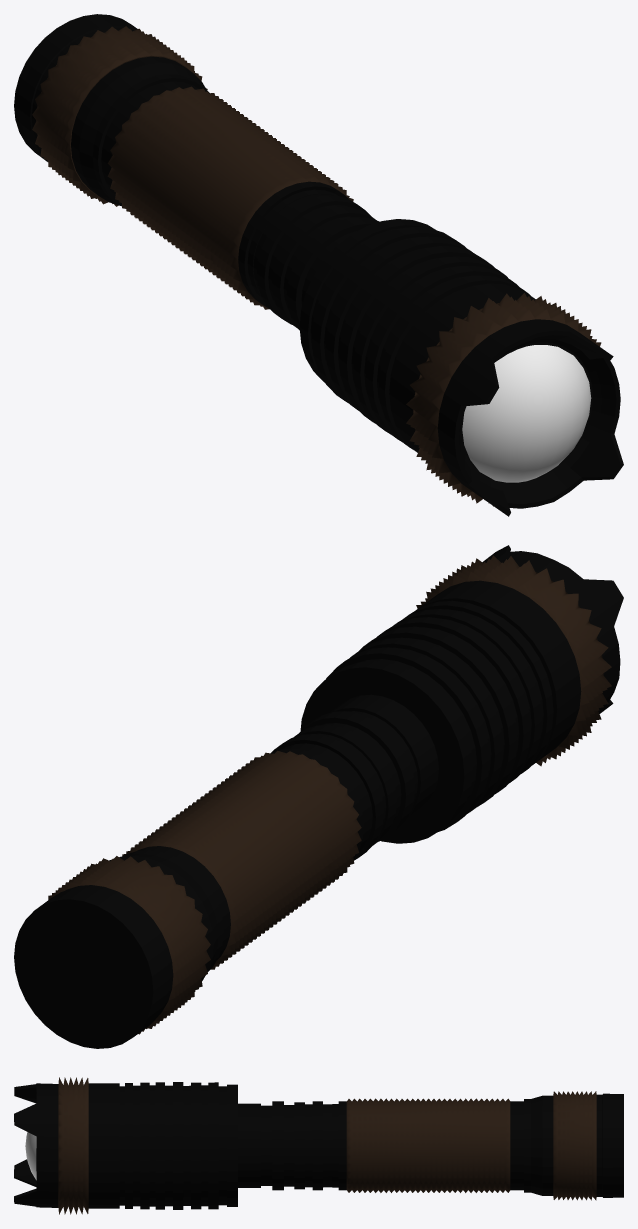
Rendered from Flas.glb.
The picture shows the model from 3 angles, top to bottom: view 1: azimuth 30°, elevation 25°; view 2: azimuth 150°, elevation 25°; view 3: azimuth 270°, elevation 25°; orthographic projection. The views are drawn at different scales.
Parts seen in each view (by area): view 1: edit3, bulb; view 2: edit3; view 3: edit3, bulb.
Part boxes in pixels (x1,y1,x2,y2): edit3: (14,14,623,516); bulb: (462,345,591,482); edit3: (14,545,623,1048); edit3: (14,1077,623,1214); bulb: (25,1132,36,1180).
Size of the model in its own units: 1.07 by 1.07 by 4.76.
Materials: 1 (1 with a texture image).
